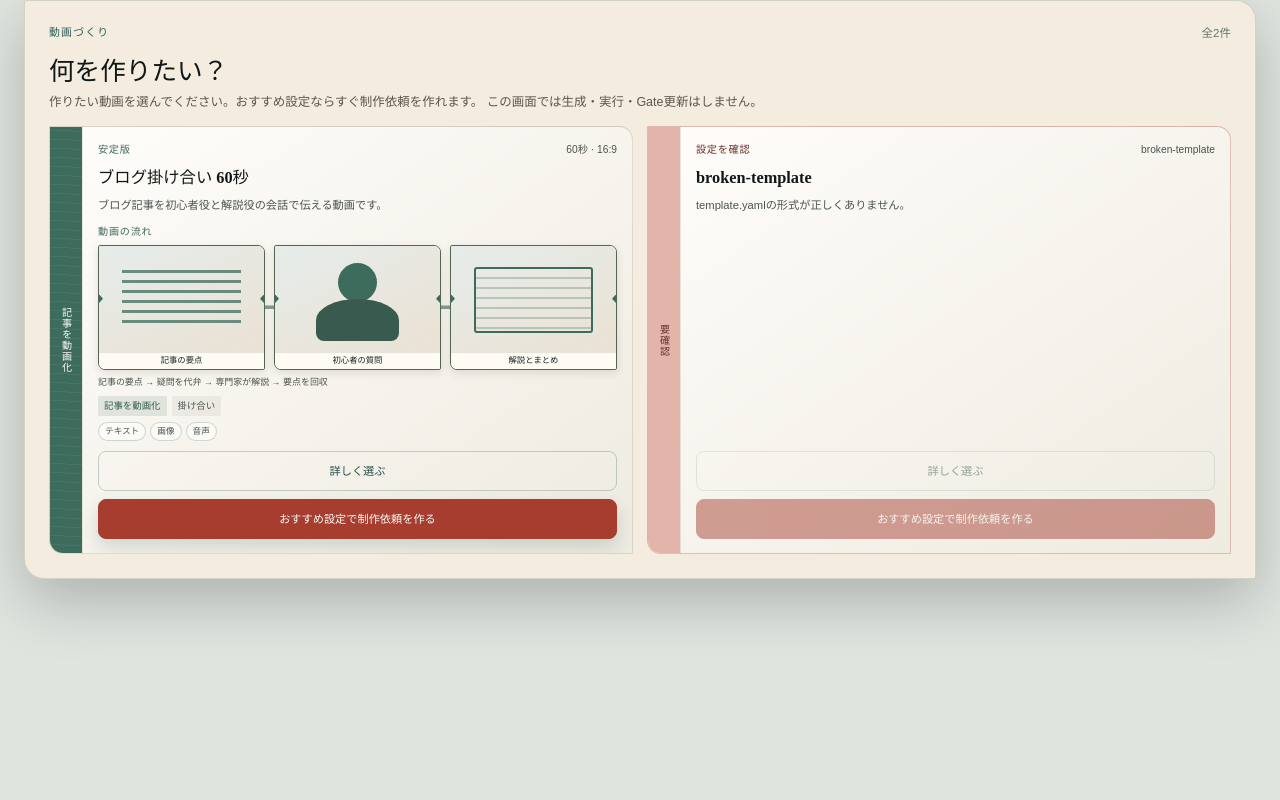
Test: TemplateShelf › 型選択 → 軸1 → 軸2 → 軸3 → チェックリストとナビできる
Click the button "詳しく選ぶ" below "テキスト" at (358, 471), box [98,451,617,491]
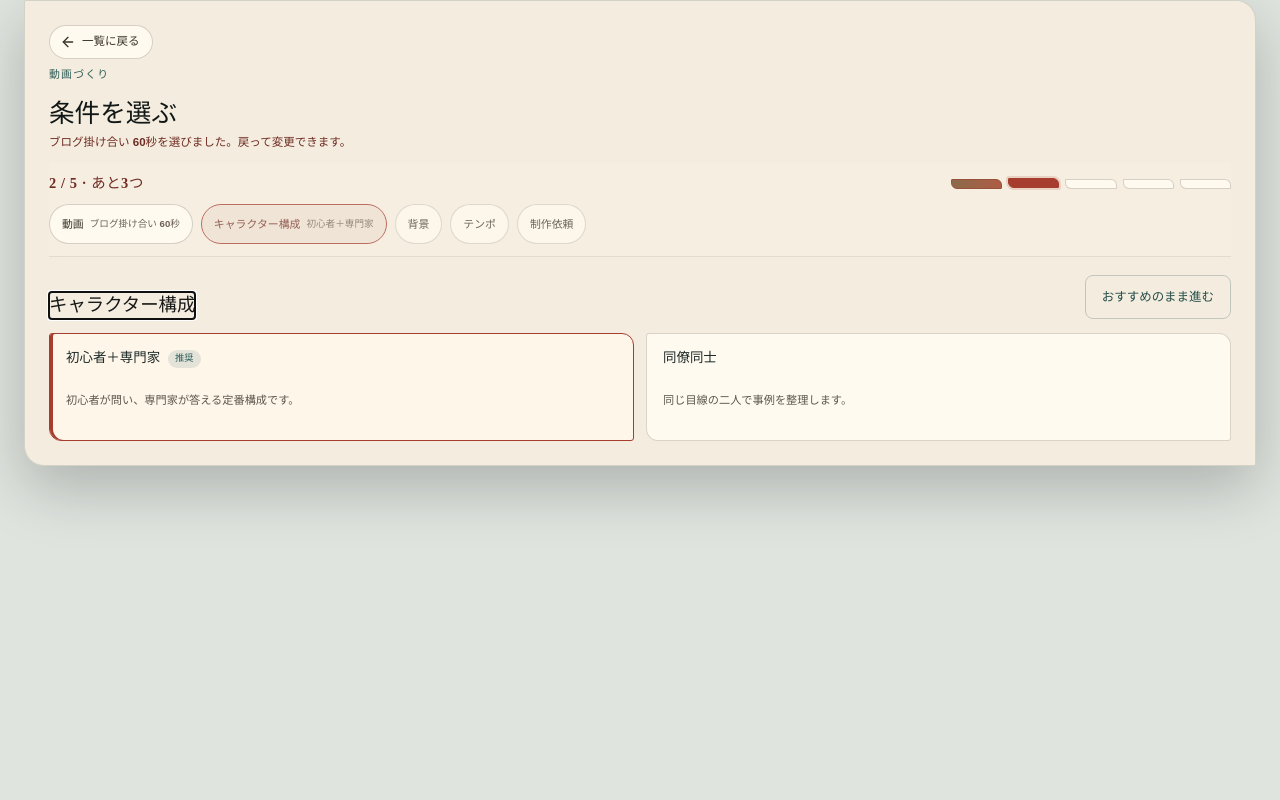
Now the heading "キャラクター構成" is shown, box [49,292,195,320]
Click the button "同僚同士 同じ目線の二人で事例を整理します。" at (690, 358), box [646,334,1231,442]
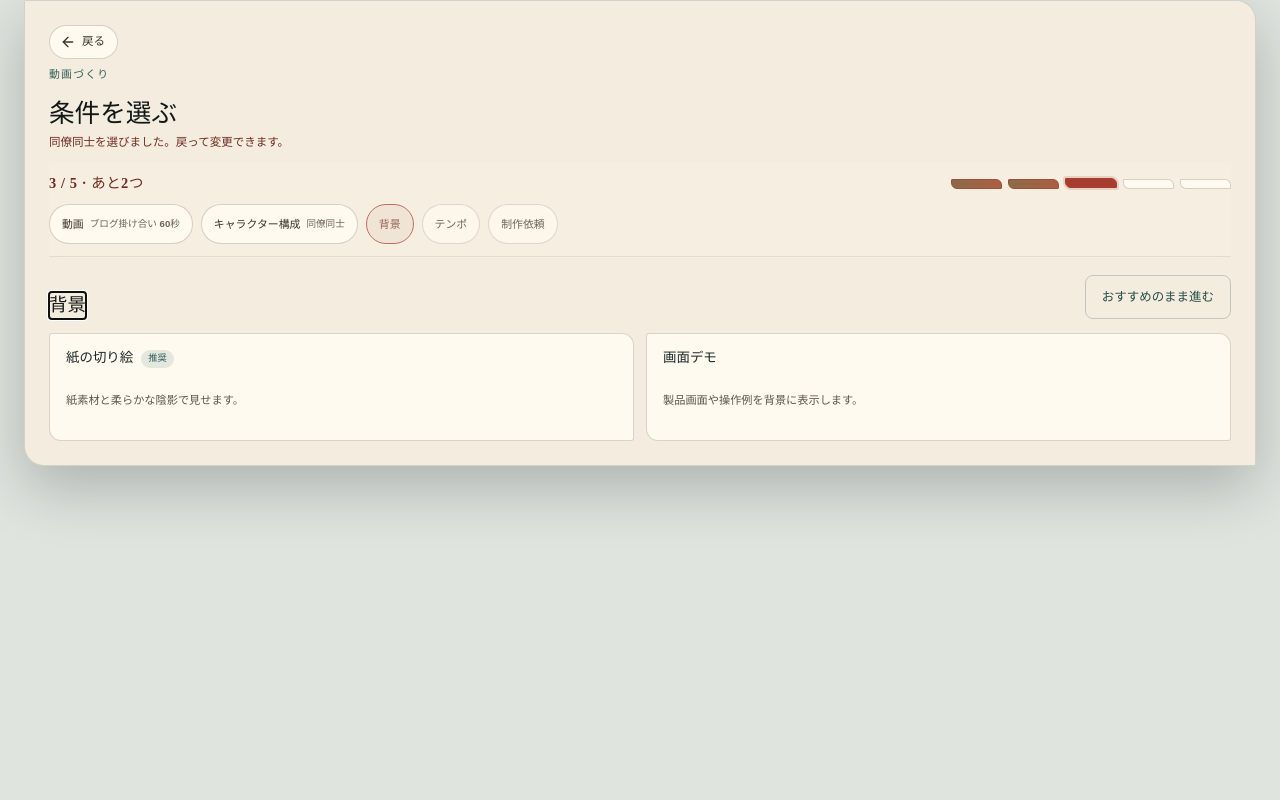
Now the heading "背景" is shown, box [49,292,86,320]
Click the button "画面デモ 製品画面や操作例を背景に表示します。" at (690, 358), box [646,334,1231,442]
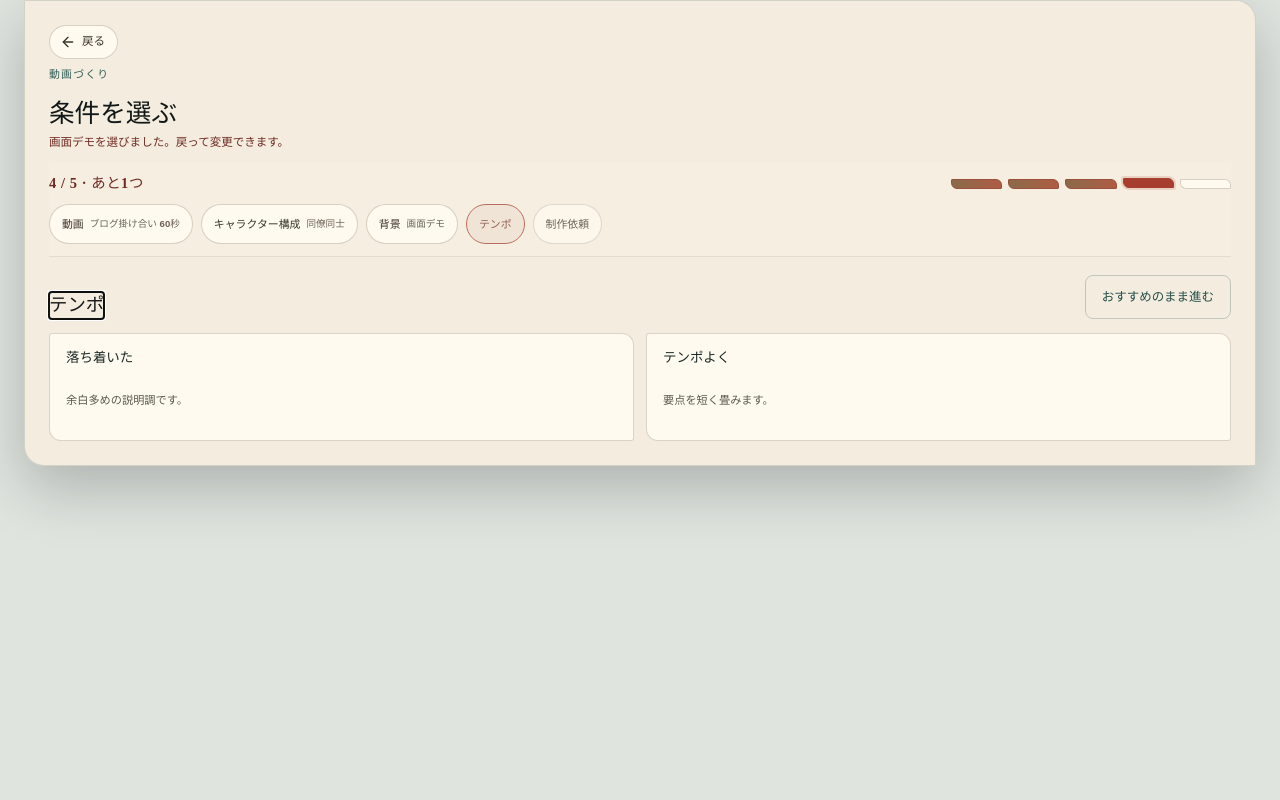
Now the heading "テンポ" is shown, box [49,292,104,320]
Click the button "落ち着いた 余白多めの説明調です。" at (100, 358), box [49,334,634,442]
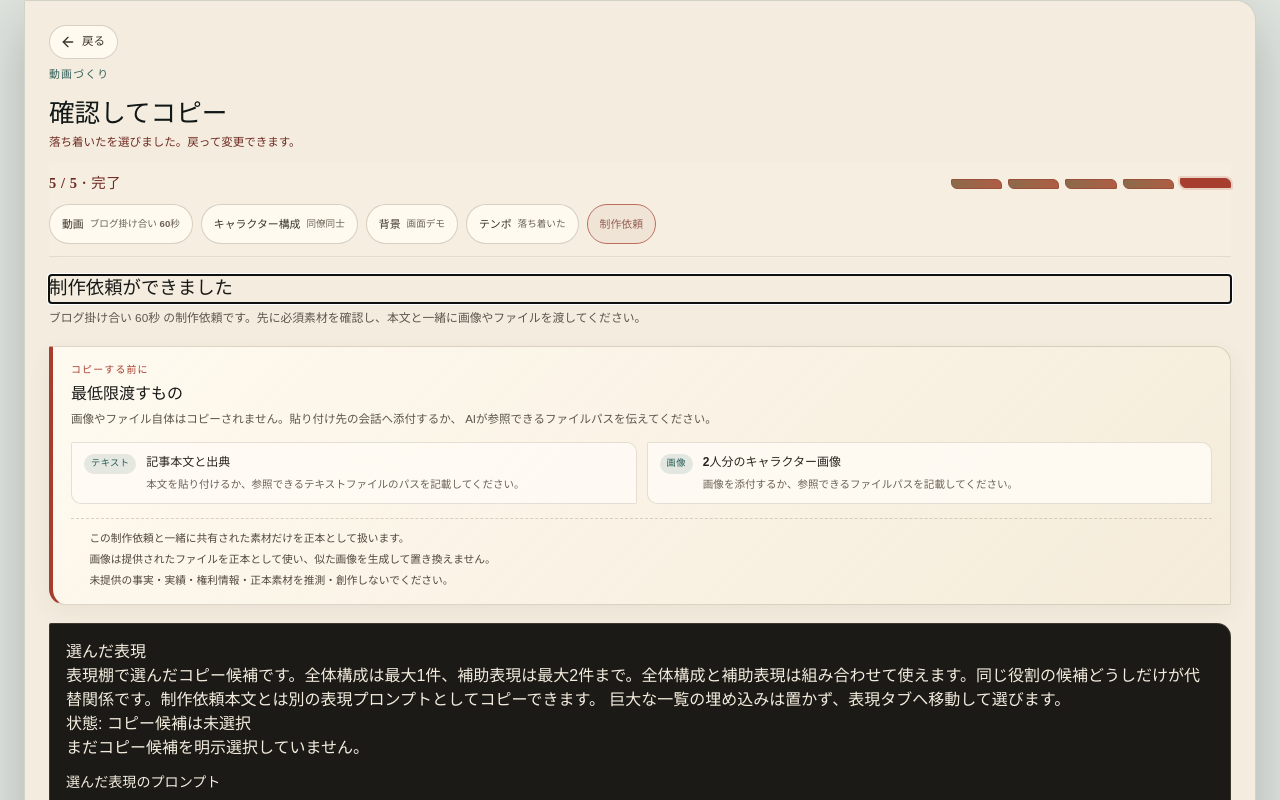
Now the heading "制作依頼ができました" is shown, box [49,278,233,298]
